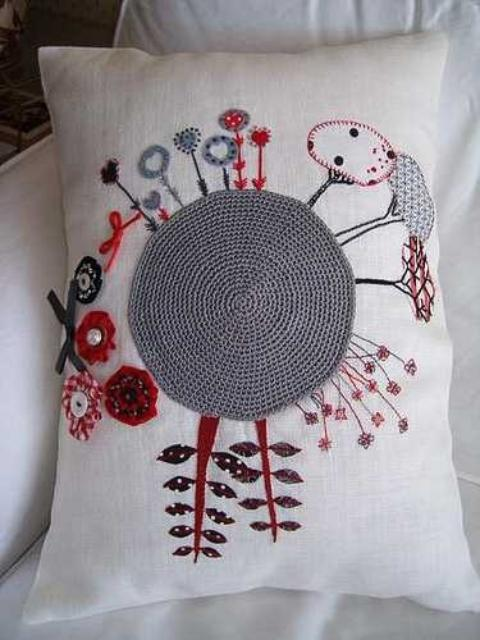pillow: (20, 26, 479, 624)
